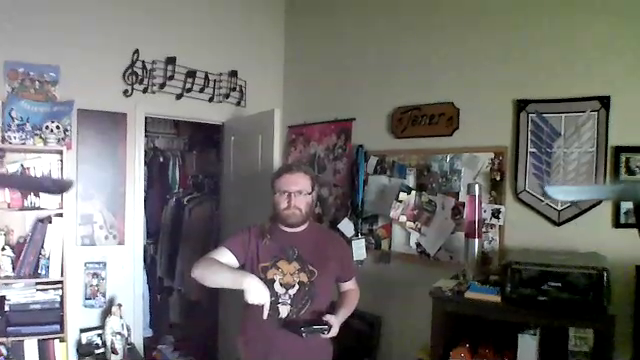down: (235, 262, 280, 332)
